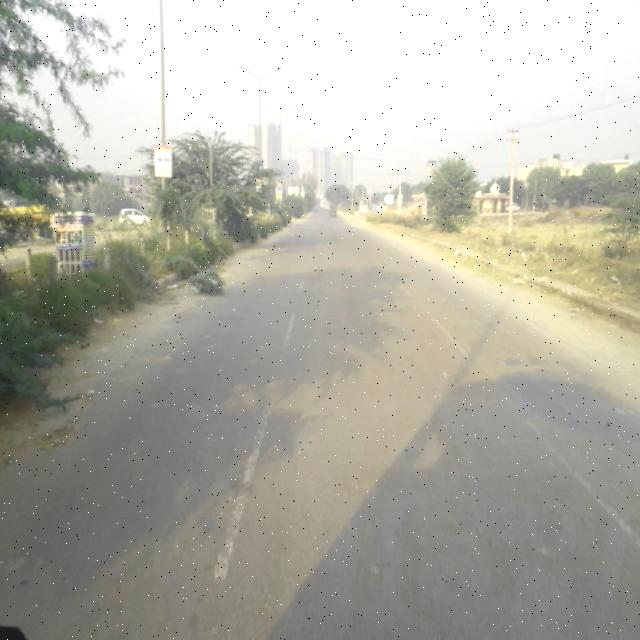D44: (511, 413, 640, 542), (209, 401, 274, 581)
